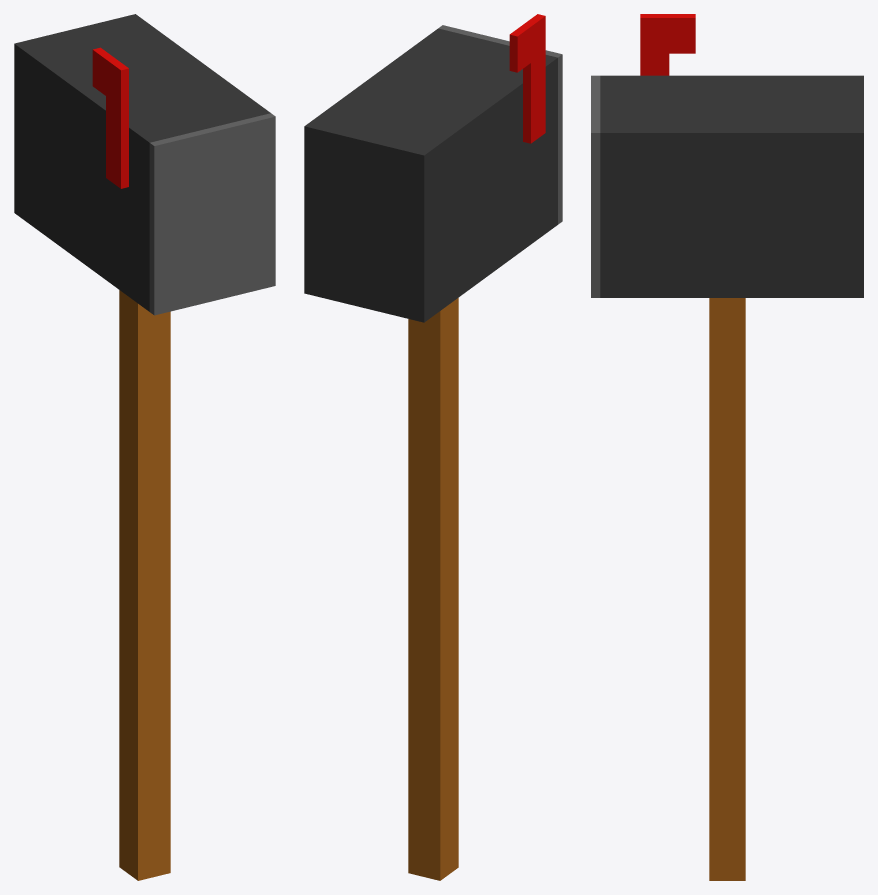
File: mailBox.fbx
3 renders of one model, left to right at view 1: azimuth 30°, elevation 25°; view 2: azimuth 150°, elevation 25°; view 3: azimuth 270°, elevation 25°, orthographic. The views are drawn at different scales.
Parts seen in each view (by area): view 1: mailBox_main, mailBox_stick, mailBox_lid, mailBox_detail; view 2: mailBox_main, mailBox_stick, mailBox_detail, mailBox_lid; view 3: mailBox_main, mailBox_stick, mailBox_detail, mailBox_lid.
Boxes of the visible parts, x1=… form: mailBox_main: x1=14, y1=14, x2=270, y2=311; mailBox_stick: x1=119, y1=290, x2=170, y2=880; mailBox_lid: x1=149, y1=113, x2=275, y2=315; mailBox_detail: x1=92, y1=47, x2=128, y2=188; mailBox_main: x1=304, y1=28, x2=557, y2=322; mailBox_stick: x1=408, y1=298, x2=458, y2=880; mailBox_detail: x1=509, y1=14, x2=545, y2=143; mailBox_lid: x1=438, y1=25, x2=562, y2=224; mailBox_main: x1=600, y1=75, x2=863, y2=297; mailBox_stick: x1=709, y1=298, x2=745, y2=880; mailBox_detail: x1=640, y1=14, x2=695, y2=75; mailBox_lid: x1=591, y1=75, x2=600, y2=297.
Bounding box in the file's own units: 48 × 301 × 90.
